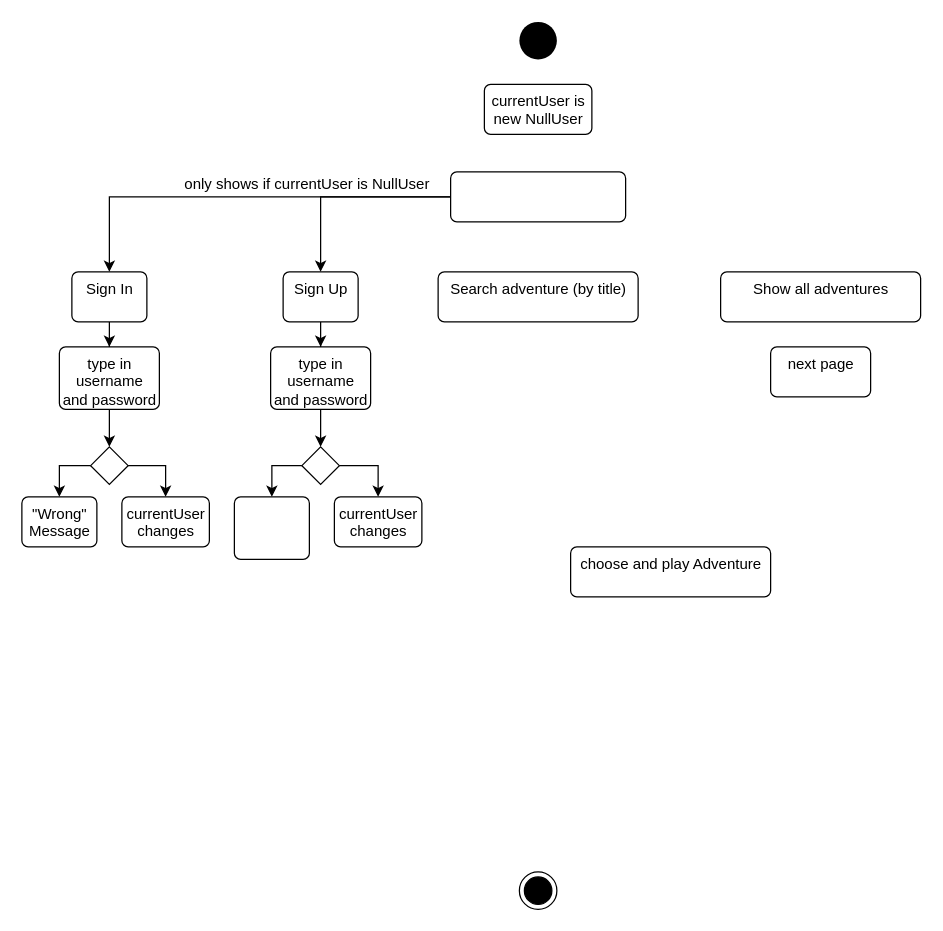
The diagram is 943 pixels wide and 931 high, and some of its shapes have lost their labels. Each missing label, with the centre of its shape:
"username already taken": (271,527)
Main Menu: (537,196)
